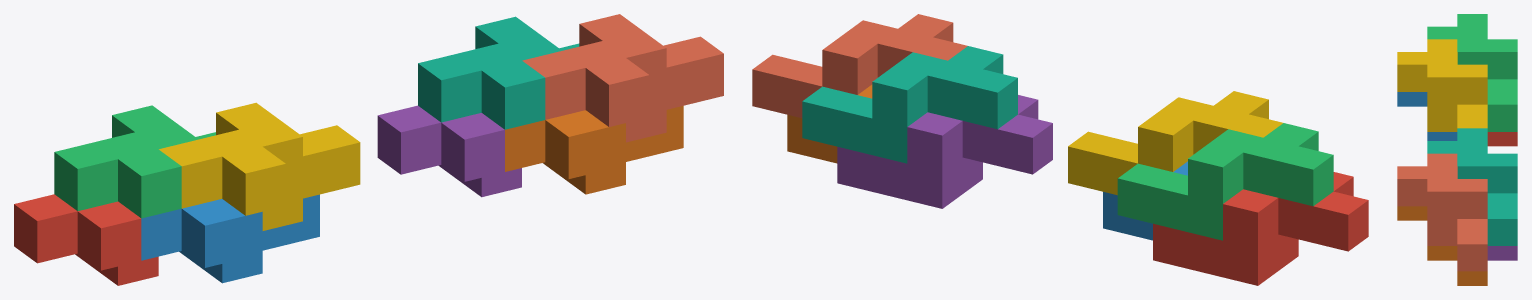
File: tiling.obj
3 renders of one model, left to right at view 1: azimuth 30°, elevation 25°; view 2: azimuth 150°, elevation 25°; view 3: azimuth 270°, elevation 25°, orthographic. The views are drawn at different scales.
Parts seen in each view (by area): view 1: copy_1_domain_4, copy_1_domain_8, copy_1_domain_7, copy_1_domain_3, copy_1_domain_2, copy_1_domain_6, copy_1_domain_1, copy_1_domain_5; view 2: copy_1_domain_3, copy_1_domain_7, copy_1_domain_5, copy_1_domain_1, copy_1_domain_8, copy_1_domain_4, copy_1_domain_6, copy_1_domain_2; view 3: copy_1_domain_8, copy_1_domain_4, copy_1_domain_3, copy_1_domain_7, copy_1_domain_6, copy_1_domain_2, copy_1_domain_5, copy_1_domain_1.
Boxes of the visible parts, left/top/right/bottom form: copy_1_domain_4: left=159, top=102, right=360, bottom=230; copy_1_domain_8: left=522, top=14, right=723, bottom=142; copy_1_domain_7: left=418, top=16, right=579, bottom=129; copy_1_domain_3: left=54, top=105, right=215, bottom=218; copy_1_domain_2: left=141, top=194, right=319, bottom=283; copy_1_domain_6: left=505, top=106, right=683, bottom=194; copy_1_domain_1: left=14, top=194, right=158, bottom=285; copy_1_domain_5: left=377, top=105, right=521, bottom=197; copy_1_domain_3: left=1117, top=123, right=1333, bottom=240; copy_1_domain_7: left=802, top=46, right=1017, bottom=163; copy_1_domain_5: left=837, top=95, right=1052, bottom=208; copy_1_domain_1: left=1153, top=172, right=1368, bottom=285; copy_1_domain_8: left=752, top=14, right=967, bottom=117; copy_1_domain_4: left=1068, top=91, right=1282, bottom=195; copy_1_domain_6: left=787, top=84, right=872, bottom=163; copy_1_domain_2: left=1103, top=161, right=1187, bottom=240; copy_1_domain_8: left=1397, top=153, right=1487, bottom=271; copy_1_domain_4: left=1397, top=39, right=1487, bottom=131; copy_1_domain_3: left=1427, top=14, right=1517, bottom=131; copy_1_domain_7: left=1427, top=128, right=1517, bottom=245; copy_1_domain_6: left=1397, top=206, right=1487, bottom=285; copy_1_domain_2: left=1397, top=92, right=1457, bottom=140; copy_1_domain_5: left=1487, top=246, right=1517, bottom=260; copy_1_domain_1: left=1487, top=132, right=1517, bottom=146.
Bounding box in the file's own units: 17 × 3 × 4.
